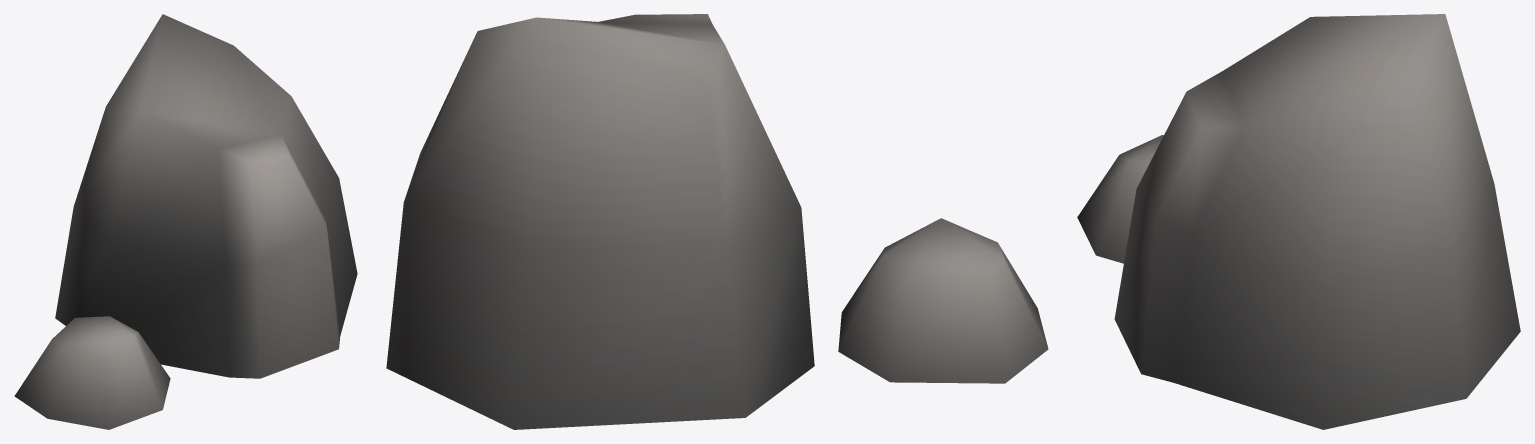
File: m_Rocks03_A.fbx
3 views of the same model, side by side, from view 1: azimuth 30°, elevation 25°; view 2: azimuth 150°, elevation 25°; view 3: azimuth 270°, elevation 25° (orthographic). The views are drawn at different scales.
Parts seen in each view (by area): view 1: m_Rocks03_A; view 2: m_Rocks03_A; view 3: m_Rocks03_A.
Part boxes in pixels (x1=…): m_Rocks03_A: x1=14, y1=14, x2=357, y2=429; m_Rocks03_A: x1=386, y1=14, x2=1048, y2=429; m_Rocks03_A: x1=1077, y1=14, x2=1520, y2=429.
Size of the model in its own units: 152 by 98.66 by 121.
